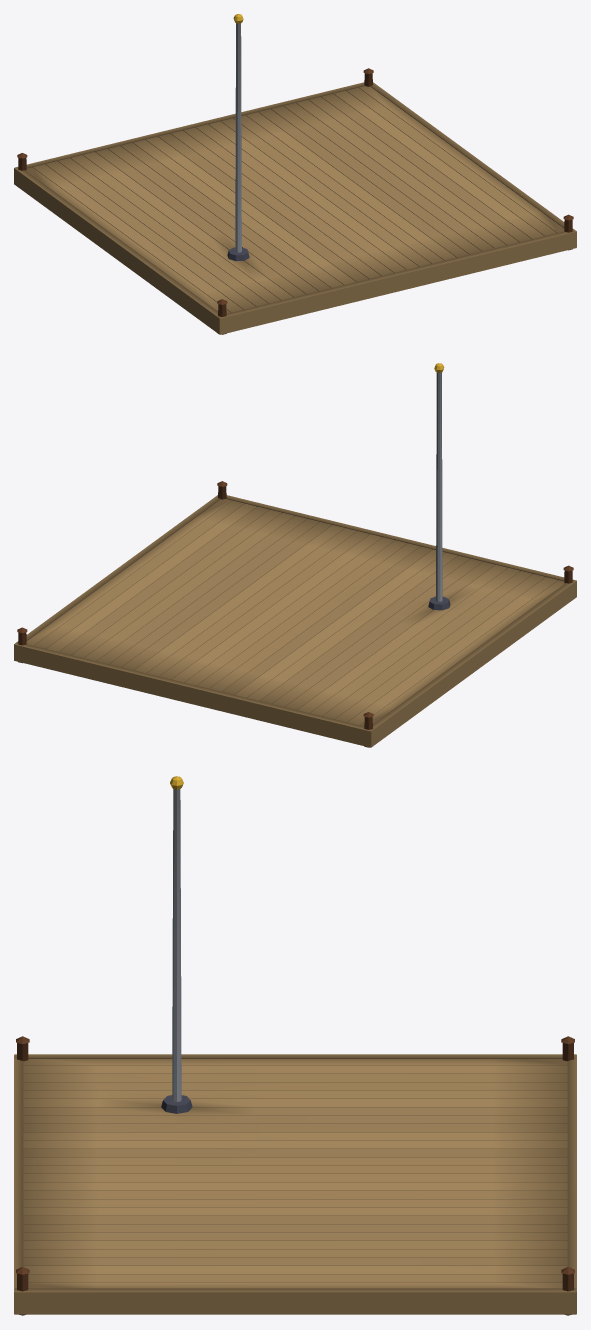
Rendered from summit.glb.
3 views of the same model, one above another, from view 1: azimuth 30°, elevation 25°; view 2: azimuth 150°, elevation 25°; view 3: azimuth 270°, elevation 25° (orthographic). The views are drawn at different scales.
Visible parts, largest first — view 1: summit; view 2: summit; view 3: summit.
Part boxes in pixels (left/top/right/bottom): summit: left=14, top=14, right=576, bottom=334; summit: left=14, top=363, right=576, bottom=747; summit: left=14, top=776, right=576, bottom=1315.
Bounding box in the file's own units: 14.24 × 9.88 × 14.24.
